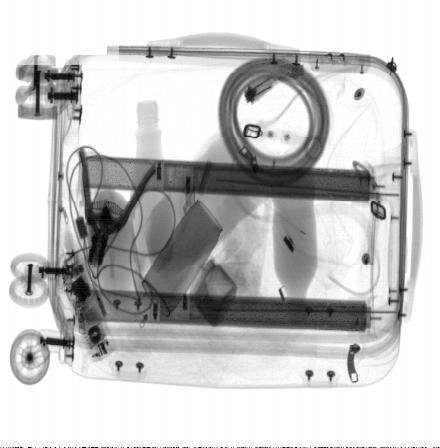Pliers: (77, 145, 155, 268)
